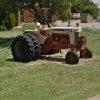Tractor: (9, 16, 82, 64)
